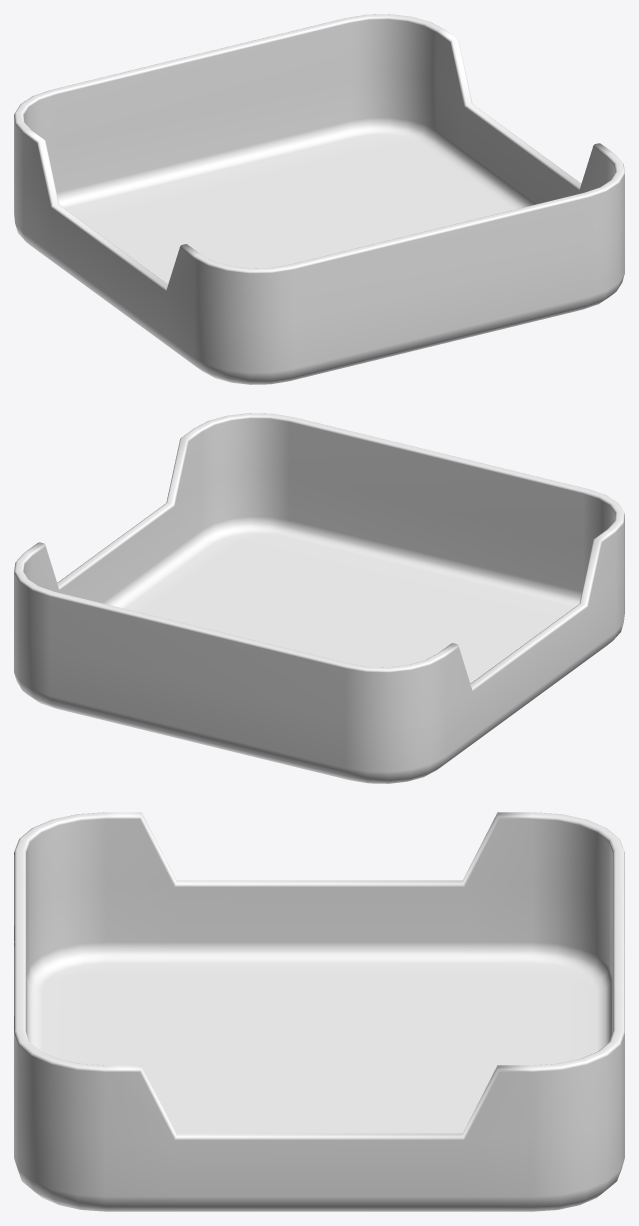
The model's file is white_plate.fbx.
The picture shows the model from 3 angles, top to bottom: view 1: azimuth 30°, elevation 25°; view 2: azimuth 150°, elevation 25°; view 3: azimuth 270°, elevation 25°; orthographic projection. The views are drawn at different scales.
Parts seen in each view (by area): view 1: tray_02_2; view 2: tray_02_2; view 3: tray_02_2.
Part boxes in pixels (<box>): tray_02_2: <box>14,14,624,384</box>; tray_02_2: <box>14,413,624,783</box>; tray_02_2: <box>14,812,624,1211</box>.
Size of the model in its own units: 178 by 48.58 by 178.
